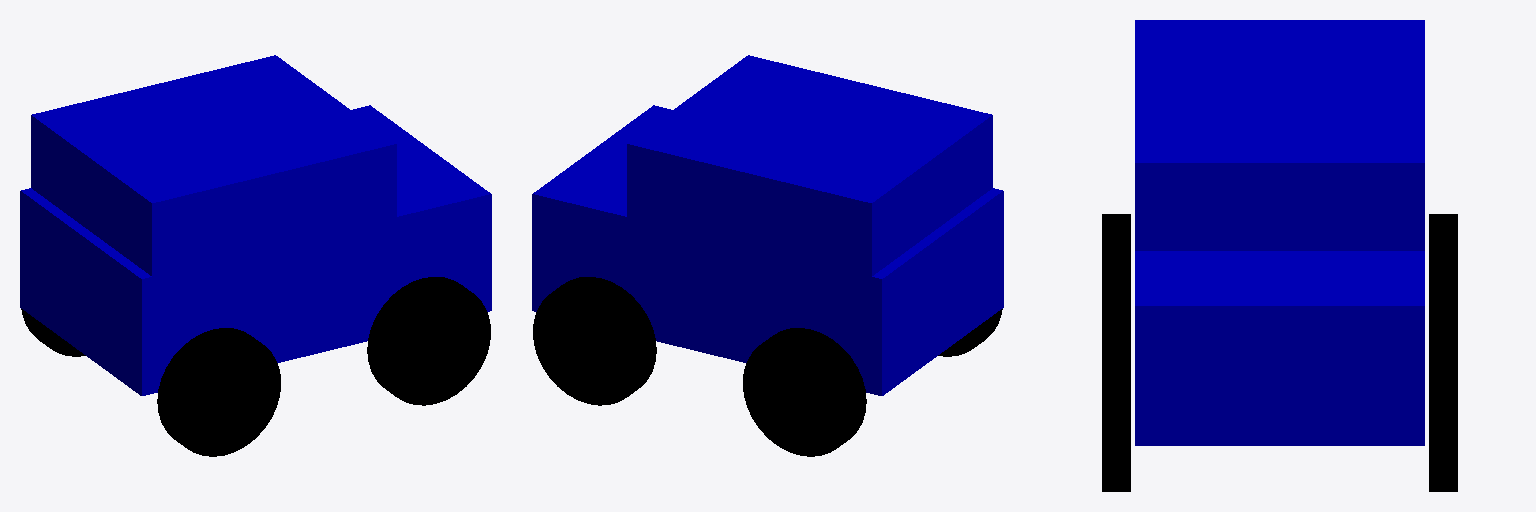
URDF robot description (our_car_master_model):
<?xml version="1.0"?>
<robot name="our_car_master_model">

	<!-- Chassis -->
	<link name="chassis">
		<visual>
			<origin rpy="0 0 0" xyz="0 0 0"/>
			<geometry>
				<box size="2.5 1.5 0.8"/>
			</geometry>
			<material name="blue">
				<color rgba="0 0 .8 1"/>
			</material>
		</visual>
		<collision>
			<origin rpy="0 0 0" xyz="0 0 0"/>
			<geometry>
				<box size="2.5 1.5 0.8"/>
			</geometry>
		</collision>
		<inertial>
			<mass value="555"/>
			<inertia ixx="0.8" ixy="0.0" ixz="0.0" iyy="5.9" iyz="0.0" izz="5.1"/>
		</inertial>
	</link>

	<link name="toit">
		<visual>
			<origin rpy="0 0 0" xyz="0 0 0"/>
			<geometry>
				<box size="1.75 1.5 0.5"/>
			</geometry>
			<material name="blue">
				<color rgba="0 0 .8 1"/>
			</material>
		</visual>
		<collision>
			<origin rpy="0 0 0" xyz="0 0 0"/>
			<geometry>
				<box size="1.75 1.5 0.5"/>
			</geometry>
		</collision>
		<inertial>
			<mass value="100"/>
			<inertia ixx="0.4" ixy="0.0" ixz="0.0" iyy="0.4" iyz="0.0" izz="0.2"/>
		</inertial>
	</link>

	<!-- Roues -->
	<link name="front_left_wheel">
		<visual>
			<origin rpy="0 0 0" xyz="0 0 0"/>
			<geometry>
				<cylinder length="0.15" radius="0.4"/>
			</geometry>
			<material name="black">
				<color rgba="0 0 0 1"/>
			</material>
		</visual>
		<collision>
			<origin rpy="0 0 0" xyz="0 0 0"/>
			<geometry>
				<cylinder length="0.15" radius="0.4"/>
			</geometry>
		</collision>
		<inertial>
			<mass value="10"/>
			<inertia ixx="0.4" ixy="0.0" ixz="0.0" iyy="0.4" iyz="0.0" izz="0.2"/>
		</inertial>
	</link>

	<link name="front_right_wheel">
		<visual>
			<origin rpy="0 0 0" xyz="0 0 0"/>
			<geometry>
				<cylinder length="0.15" radius="0.4"/>
			</geometry>
			<material name="black">
				<color rgba="0 0 0 1"/>
			</material>
		</visual>
		<collision>
			<origin rpy="0 0 0" xyz="0 0 0"/>
			<geometry>
				<cylinder length="0.15" radius="0.4"/>
			</geometry>
		</collision>
		<inertial>
			<mass value="10"/>
			<inertia ixx="0.4" ixy="0.0" ixz="0.0" iyy="0.4" iyz="0.0" izz="0.2"/>
		</inertial>
	</link>

	<link name="rear_left_wheel">
		<visual>
			<origin rpy="0 0 0" xyz="0 0 0"/>
			<geometry>
				<cylinder length="0.15" radius="0.4"/>
			</geometry>
			<material name="black">
				<color rgba="0 0 0 1"/>
			</material>
		</visual>
		<collision>
			<origin rpy="0 0 0" xyz="0 0 0"/>
			<geometry>
				<cylinder length="0.15" radius="0.4"/>
			</geometry>
		</collision>
		<inertial>
			<mass value="10"/>
			<inertia ixx="0.4" ixy="0.0" ixz="0.0" iyy="0.4" iyz="0.0" izz="0.2"/>
		</inertial>
	</link>

	<link name="rear_right_wheel">
		<visual>
			<origin rpy="0 0 0" xyz="0 0 0"/>
			<geometry>
				<cylinder length="0.15" radius="0.4"/>
			</geometry>
			<material name="black">
				<color rgba="0 0 0 1"/>
			</material>
		</visual>
		<collision>
			<origin rpy="0 0 0" xyz="0 0 0"/>
			<geometry>
				<cylinder length="0.15" radius="0.4"/>
			</geometry>
		</collision>
		<inertial>
			<mass value="10"/>
			<inertia ixx="0.4" ixy="0.0" ixz="0.0" iyy="0.4" iyz="0.0" izz="0.2"/>
		</inertial>
	</link>

	<gazebo>
	<plugin name="wheel_controller_master" filename="libcommande_roues_master_plugin.so"/>
	</gazebo>

	<!-- Mise en place des liens -->

	<joint name="chassis_to_toit" type="fixed">
		<parent link="chassis"/>
		<child link="toit"/>
		<origin xyz="-0.3 0 0.65"/>
	</joint>

	<joint name="chassis_to_front_left_wheel" type="continuous">
		<parent link="chassis"/>
		<child link="front_left_wheel"/>
		<origin rpy="1.57075 0 0" xyz="0.75 0.845 -0.45"/>
		<axis xyz = "0 0 1" />
	</joint>

	<joint name="chassis_to_front_right_wheel" type="continuous">
		<parent link="chassis"/>
		<child link="front_right_wheel"/>
		<origin rpy="1.57075 0 0" xyz="0.75 -0.845 -0.45"/>
		<axis xyz = "0 0 1" />
	</joint>

	<joint name="chassis_to_rear_left_wheel" type="continuous">
		<parent link="chassis"/>
		<child link="rear_left_wheel"/>
		<origin rpy="1.57075 0 0" xyz="-0.75 0.845 -0.45"/>
		<axis xyz = "0 0 1" />
	</joint>

	<joint name="chassis_to_rear_right_wheel" type="continuous">
		<parent link="chassis"/>
		<child link="rear_right_wheel"/>
		<origin rpy="1.57075 0 0" xyz="-0.75 -0.845 -0.45"/>
		<axis xyz = "0 0 1" />
	</joint>



	<!-- Couleurs -->
	<gazebo reference="front_left_wheel">
		<material>Gazebo/Black</material>
	</gazebo>

	<gazebo reference="front_right_wheel">
		<material>Gazebo/Black</material>
	</gazebo>

	<gazebo reference="rear_left_wheel">
		<material>Gazebo/Black</material>
	</gazebo>

	<gazebo reference="rear_right_wheel">
		<material>Gazebo/Black</material>
	</gazebo>

	<gazebo reference="chassis">
		<material>Gazebo/Blue</material>
	</gazebo>

	<gazebo reference="toit">
		<material>Gazebo/Blue</material>
	</gazebo>

</robot>

--- Render facts (derived) ---
Views: 3 orthographic renders of the robot side by side, from view 1: azimuth 30°, elevation 25°; view 2: azimuth 150°, elevation 25°; view 3: azimuth 270°, elevation 25°.
Robot: our_car_master_model — 6 links, 5 joints (4 continuous, 1 fixed); root link chassis; default pose: all joints at 0.
Links seen in each view (by area): view 1: toit, chassis, rear_right_wheel, front_right_wheel, rear_left_wheel; view 2: toit, chassis, rear_left_wheel, front_left_wheel, rear_right_wheel; view 3: toit, chassis, front_left_wheel, front_right_wheel, rear_left_wheel, rear_right_wheel.
Link boxes in pixels (left/top/right/bottom): toit: left=31, top=55, right=396, bottom=276; chassis: left=20, top=105, right=491, bottom=395; rear_right_wheel: left=157, top=328, right=280, bottom=456; front_right_wheel: left=367, top=277, right=490, bottom=405; rear_left_wheel: left=21, top=309, right=85, bottom=356; toit: left=627, top=55, right=992, bottom=276; chassis: left=532, top=105, right=1003, bottom=395; rear_left_wheel: left=743, top=328, right=866, bottom=456; front_left_wheel: left=533, top=277, right=656, bottom=405; rear_right_wheel: left=938, top=309, right=1002, bottom=356; toit: left=1135, top=20, right=1424, bottom=250; chassis: left=1135, top=251, right=1424, bottom=445; front_left_wheel: left=1429, top=337, right=1457, bottom=491; front_right_wheel: left=1102, top=337, right=1130, bottom=491; rear_left_wheel: left=1429, top=214, right=1457, bottom=336; rear_right_wheel: left=1102, top=214, right=1130, bottom=336.
Size in the robot's own frame: 2.5 by 1.84 by 1.75 metres.
Geometry: primitives only (box / cylinder / sphere), no mesh files.